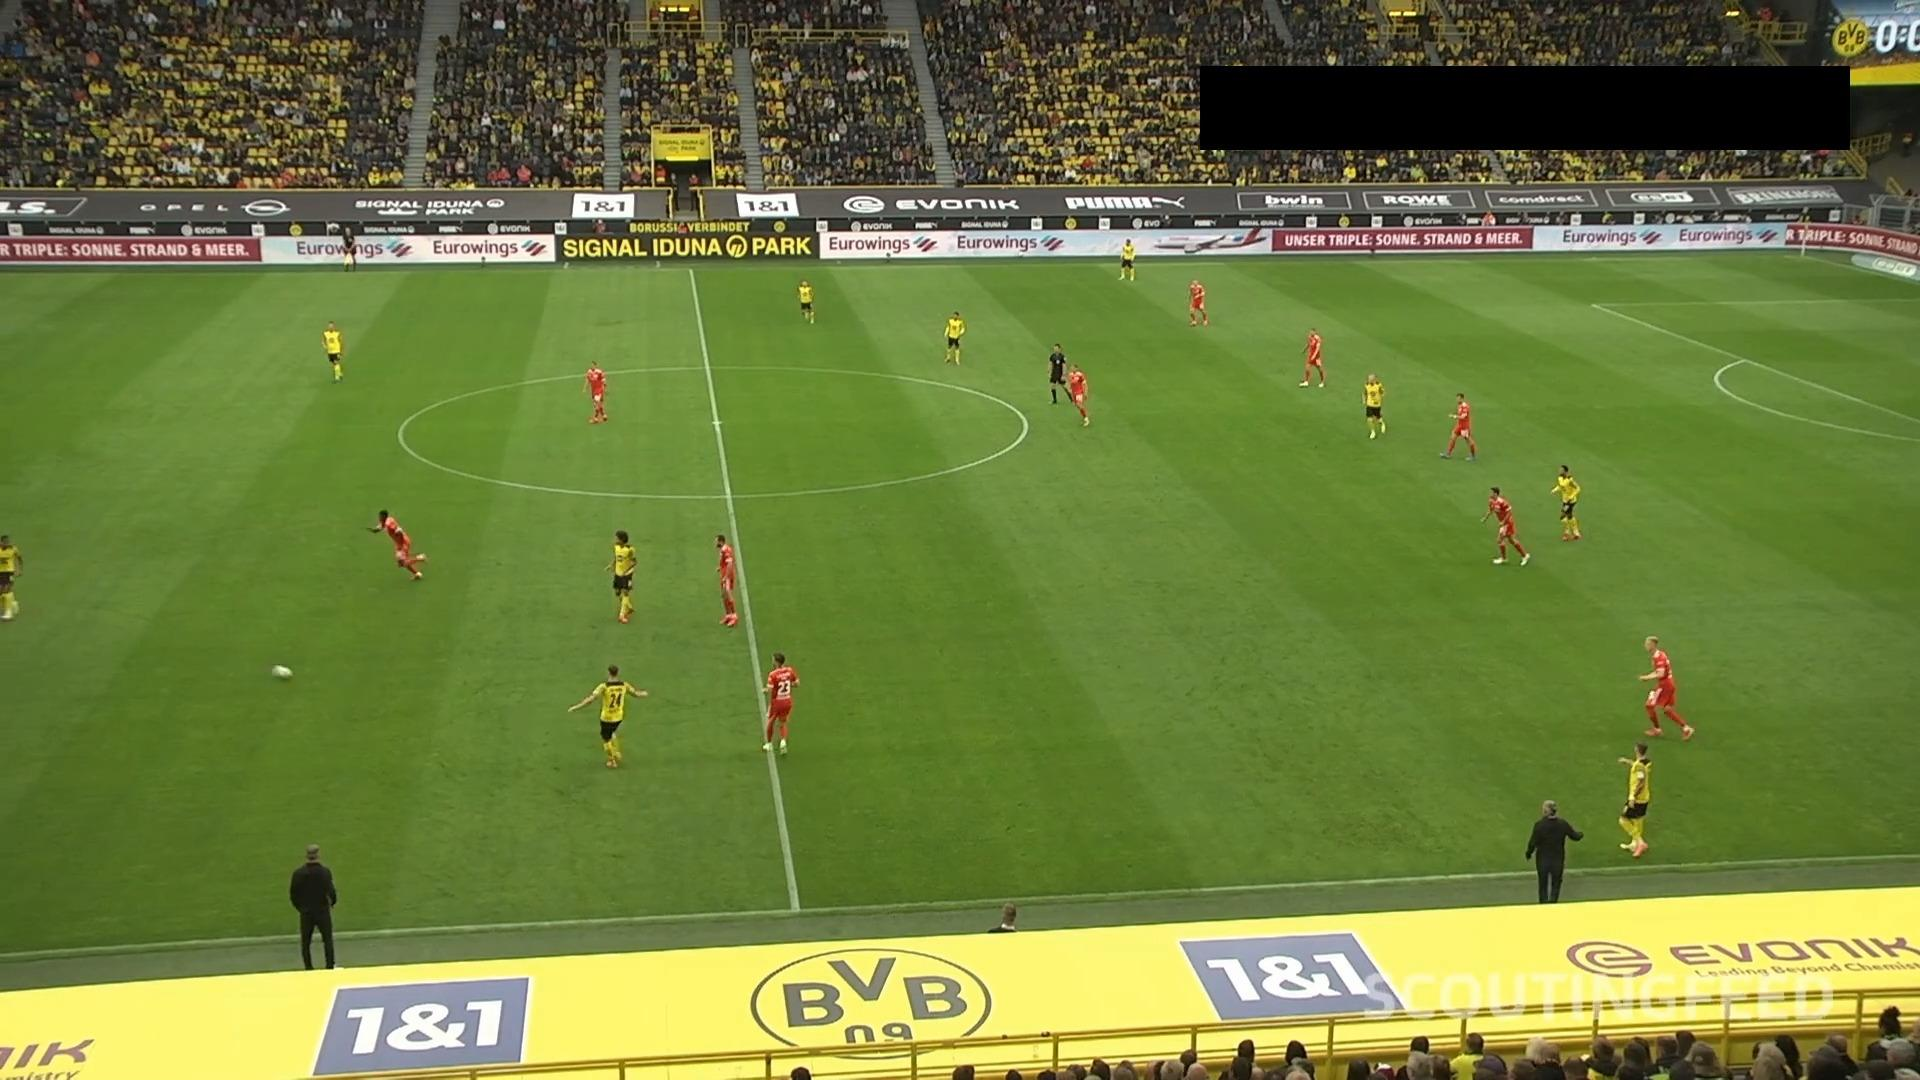ball: (269, 662, 294, 682)
